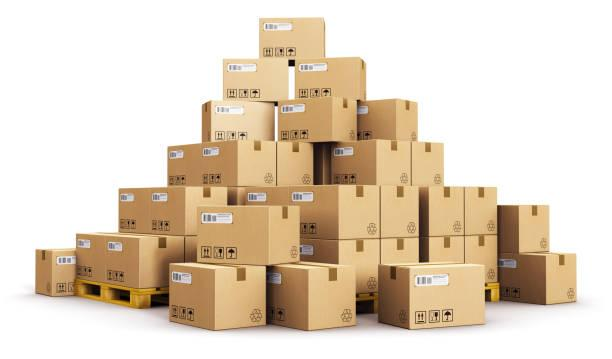Box: (246, 185, 380, 238), (379, 264, 485, 329), (170, 263, 265, 330), (267, 262, 356, 331), (76, 233, 185, 289), (198, 206, 300, 265), (118, 186, 227, 235), (167, 141, 274, 186), (300, 239, 378, 293), (498, 253, 577, 304), (331, 140, 411, 185), (279, 97, 357, 142), (202, 100, 275, 142), (295, 59, 366, 100), (224, 59, 289, 101), (357, 99, 418, 140), (497, 206, 550, 253), (420, 186, 464, 236), (380, 185, 418, 237), (35, 249, 75, 296), (276, 142, 313, 185), (465, 186, 497, 235), (465, 235, 497, 283), (411, 141, 443, 186), (420, 235, 464, 262)
pallet: (75, 280, 168, 308)
